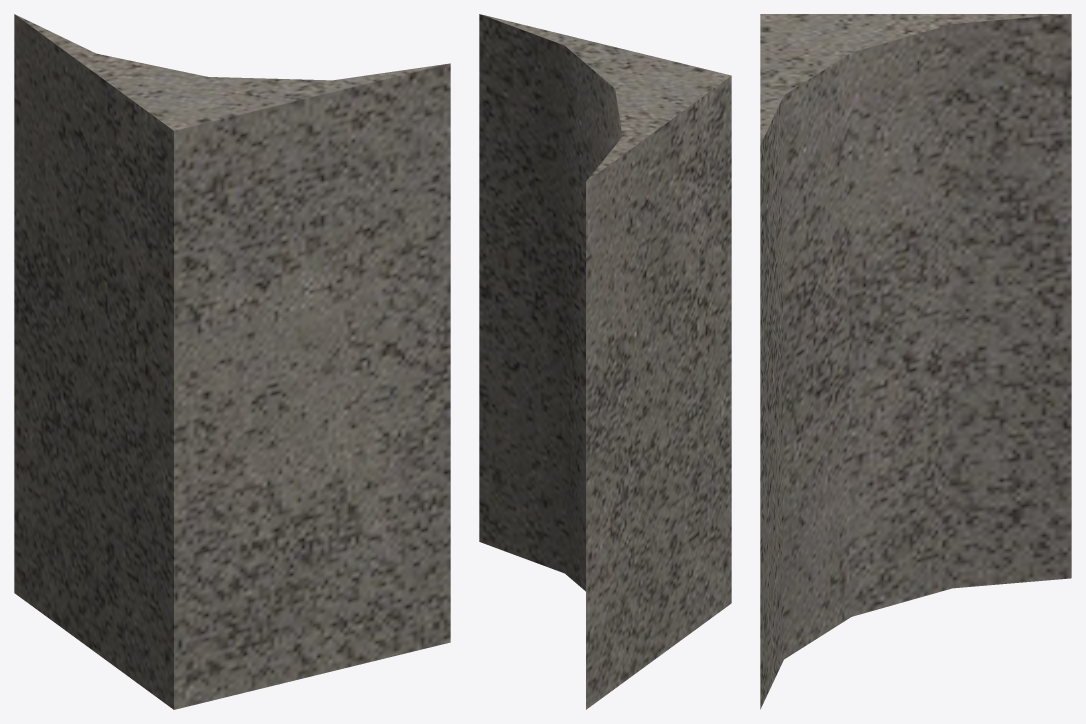
Rendered from SpiralStairsWallR1mB.obj.
3 renders of one model, left to right at view 1: azimuth 30°, elevation 25°; view 2: azimuth 150°, elevation 25°; view 3: azimuth 270°, elevation 25°, orthographic. The views are drawn at different scales.
Size of the model in its own units: 1 by 2 by 1.
Materials: 1 (1 with a texture image).
